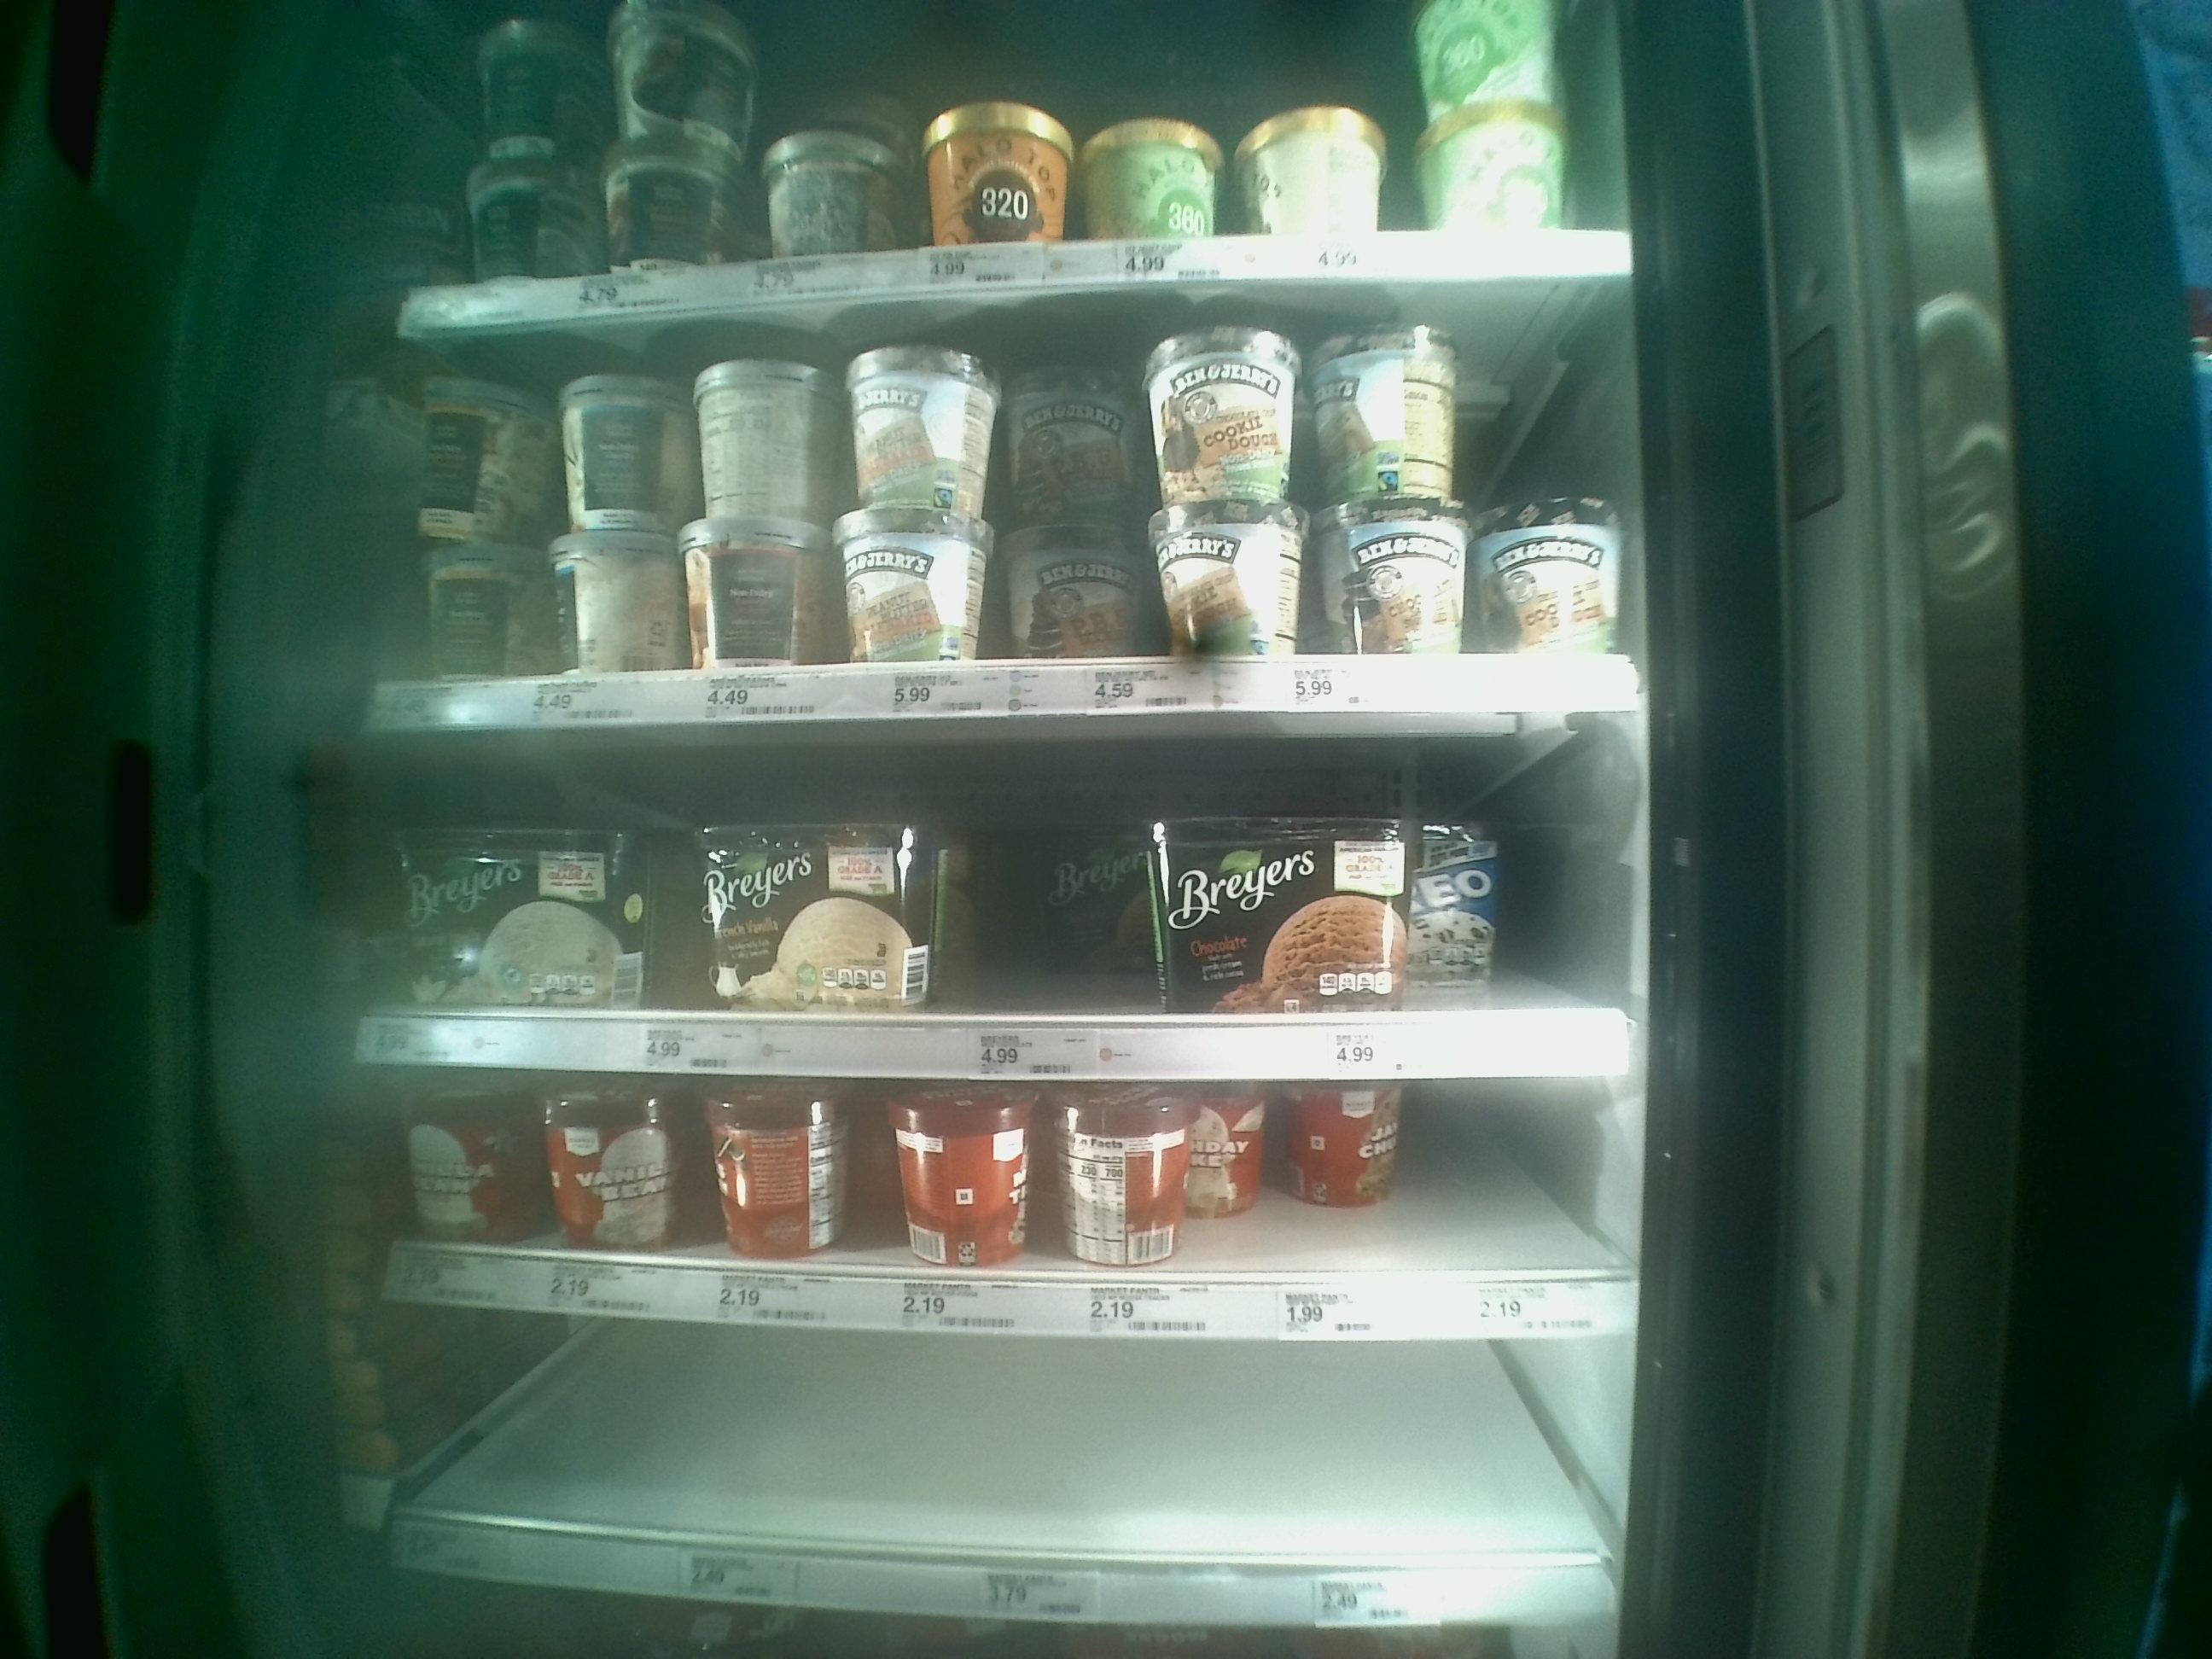ice-cream-shelf: (348, 284, 1649, 706), (361, 716, 1644, 1079), (394, 1321, 1615, 1635), (385, 1073, 1627, 1340)
